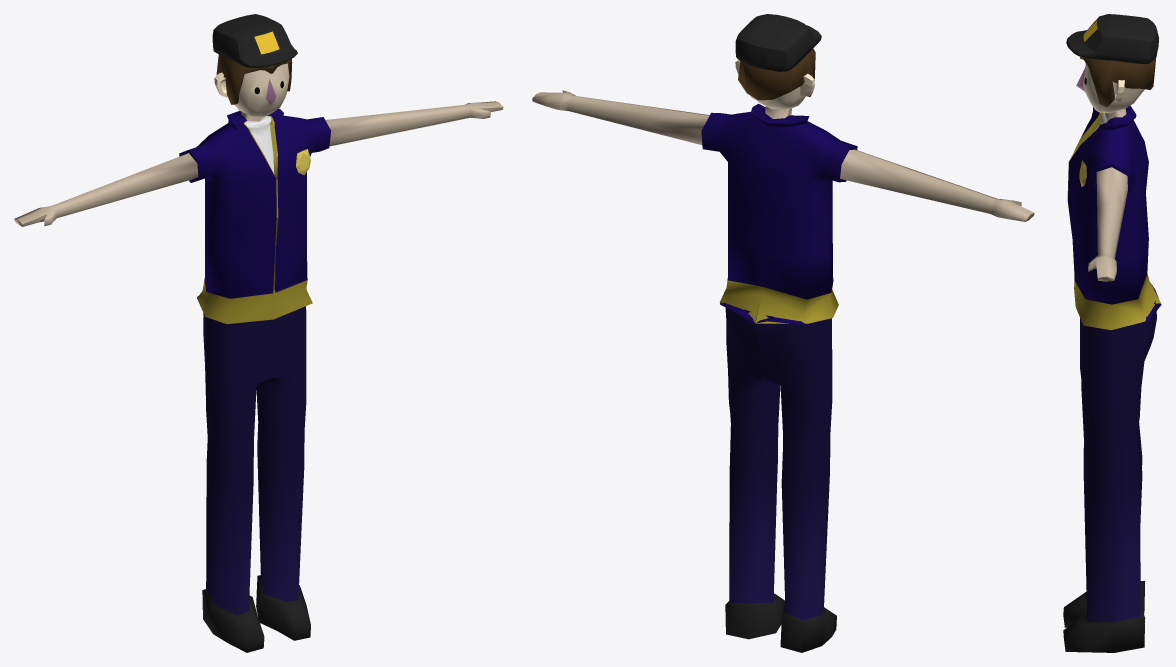
File: SECURITY M2AN.fbx
3 views of the same model, side by side, from view 1: azimuth 30°, elevation 25°; view 2: azimuth 150°, elevation 25°; view 3: azimuth 270°, elevation 25° (orthographic). The views are drawn at different scales.
Parts seen in each view (by area): view 1: Cylinder, Cube.005, Cube, Cube.001; view 2: Cylinder, Cube.005, Cube.001; view 3: Cylinder, Cube.005, Cube.001, Cube, Cube.004.
Part boxes in pixels (left/top/right/bottom): Cylinder: left=14, top=101, right=503, bottom=652; Cube.005: left=212, top=14, right=297, bottom=67; Cube: left=234, top=63, right=289, bottom=117; Cube.001: left=216, top=54, right=292, bottom=104; Cylinder: left=532, top=90, right=1034, bottom=652; Cube.005: left=735, top=14, right=821, bottom=71; Cube.001: left=738, top=48, right=815, bottom=100; Cylinder: left=1063, top=105, right=1161, bottom=652; Cube.005: left=1066, top=14, right=1158, bottom=64; Cube.001: left=1080, top=56, right=1156, bottom=106; Cube: left=1076, top=63, right=1144, bottom=113; Cube.004: left=1114, top=80, right=1124, bottom=102.
Bounding box in the file's own units: 316 × 377 × 54.81.
